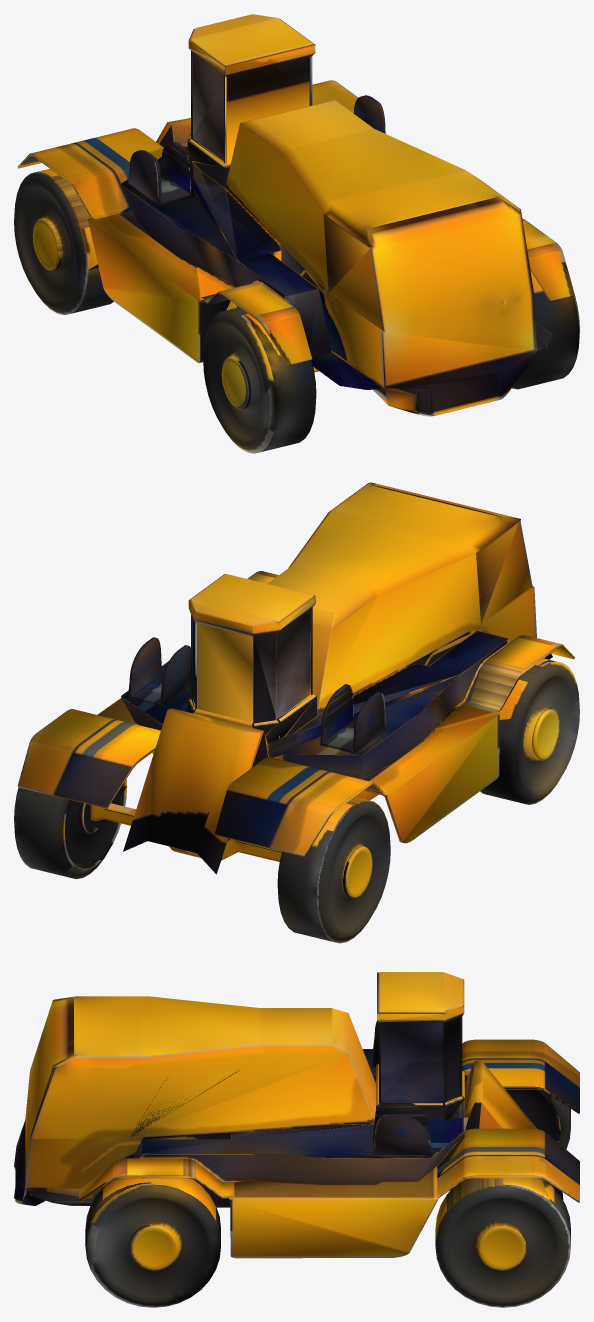
File: Crane_qt.obj
3 renders of one model, top to bottom at view 1: azimuth 30°, elevation 25°; view 2: azimuth 150°, elevation 25°; view 3: azimuth 270°, elevation 25°, orthographic. The views are drawn at different scales.
Parts seen in each view (by area): view 1: Van.001, Van.005, Van.026, Van.002, Van.006, Van.028, Van.008, Van.009; view 2: Van.001, Van.005, Van.002, Van.026, Van.027, Van.008, Van.009; view 3: Van.001, Van.005, Van.028, Van.027, Van.009, Van.002, Van.006.
Boxes of the visible parts, box(x1,y1,x2,y2) form: Van.001: box(17, 14, 574, 409); Van.005: box(121, 50, 331, 357); Van.026: box(203, 307, 316, 453); Van.002: box(14, 168, 113, 314); Van.006: box(312, 321, 552, 416); Van.028: box(512, 271, 579, 389); Van.008: box(127, 142, 194, 205); Van.009: box(353, 95, 385, 133); Van.001: box(17, 482, 574, 898); Van.005: box(121, 604, 508, 800); Van.002: box(277, 797, 390, 943); Van.026: box(480, 658, 579, 804); Van.027: box(14, 779, 127, 878); Van.008: box(320, 684, 386, 753); Van.009: box(127, 637, 190, 706); Van.001: box(25, 972, 579, 1270); Van.005: box(133, 1014, 468, 1207); Van.028: box(85, 1178, 220, 1307); Van.027: box(435, 1178, 570, 1307); Van.009: box(372, 1100, 431, 1154); Van.002: box(505, 1089, 570, 1149); Van.006: box(14, 1120, 101, 1205).
Size of the model in its own units: 6.52 by 5.31 by 10.98.
3 materials, 3 textured.
